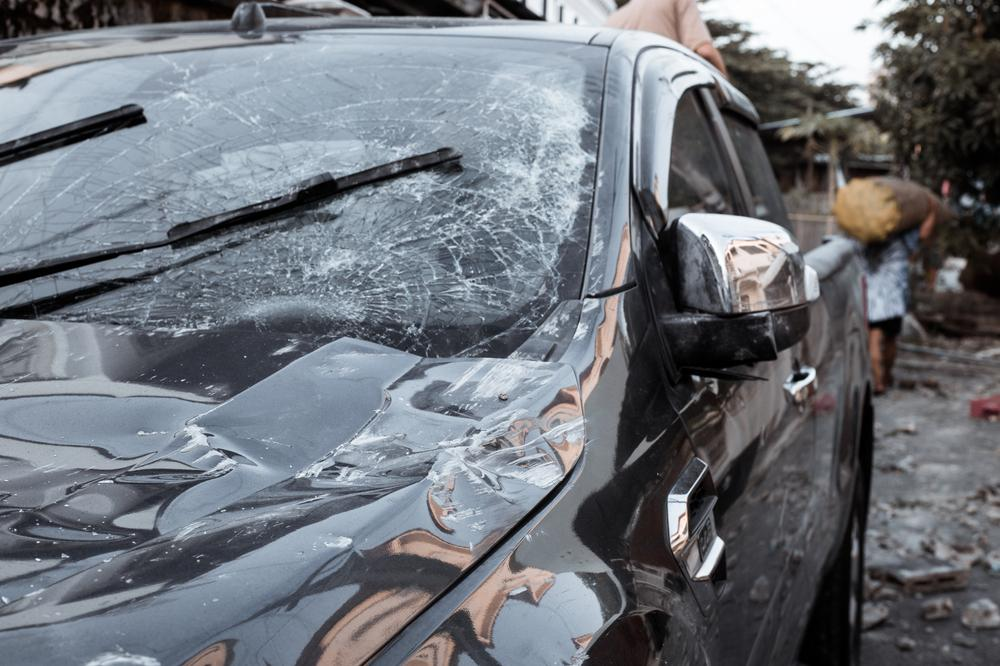dent: (0, 366, 578, 630)
glass shatter: (0, 35, 608, 362)
